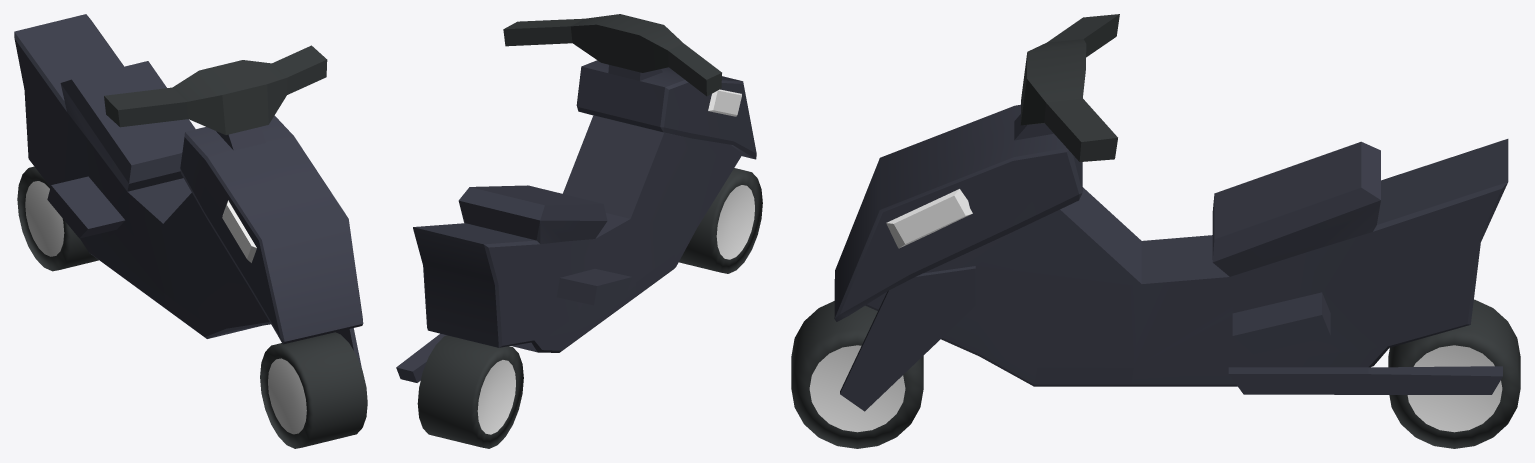
The model's file is motorcycle 1 red_.fbx.
3 renders of one model, left to right at view 1: azimuth 30°, elevation 25°; view 2: azimuth 150°, elevation 25°; view 3: azimuth 270°, elevation 25°, orthographic. The views are drawn at different scales.
Visible parts, largest first — view 1: motorcycle_1_red; view 2: motorcycle_1_red; view 3: motorcycle_1_red.
Part boxes in pixels (left/top/right/bottom): motorcycle_1_red: left=14, top=14, right=367, bottom=448; motorcycle_1_red: left=396, top=14, right=762, bottom=448; motorcycle_1_red: left=791, top=14, right=1520, bottom=448.
Bounding box in the file's own units: 47.17 × 66.04 × 116.
